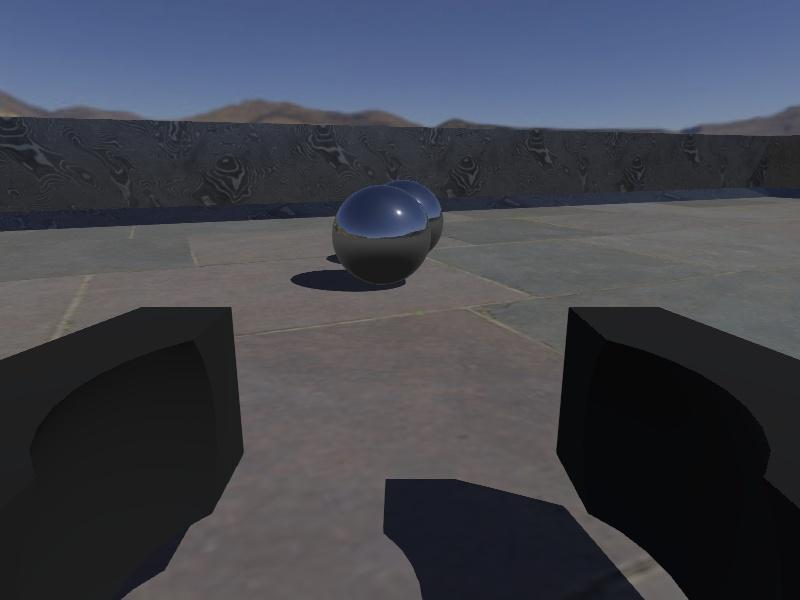steel ball: (331, 184, 432, 285)
